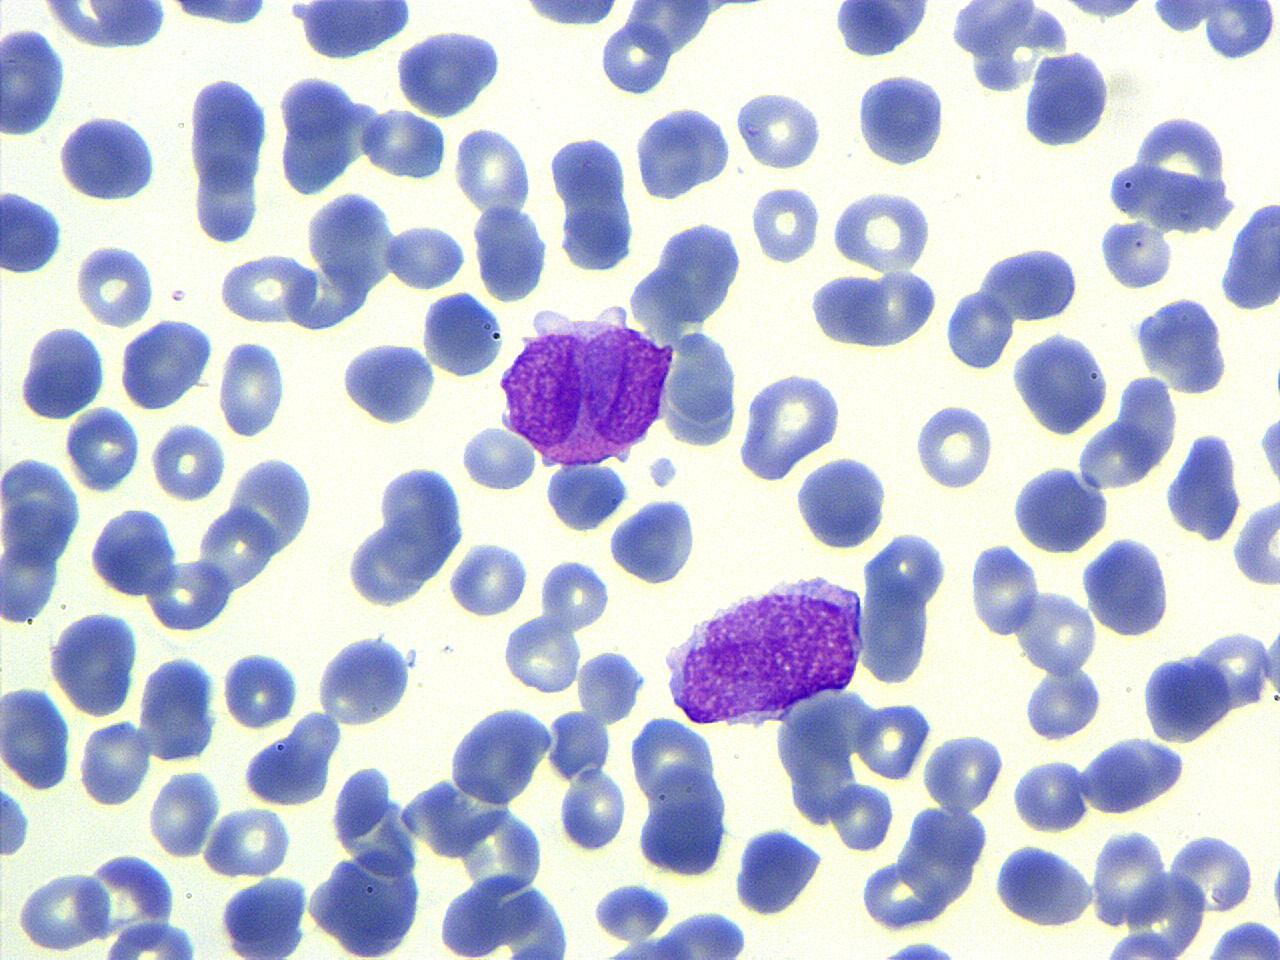Platelets: (73, 239, 156, 328), (590, 880, 672, 942), (0, 781, 30, 862), (1256, 404, 1280, 493), (873, 938, 965, 960), (647, 453, 680, 490), (1268, 854, 1280, 926), (286, 1, 318, 20), (1269, 356, 1280, 408)
RBC: (634, 758, 732, 878), (274, 72, 362, 196), (184, 74, 272, 193), (51, 608, 144, 720), (990, 838, 1098, 930), (136, 651, 219, 766), (827, 187, 936, 274), (227, 452, 315, 558), (12, 324, 107, 422), (86, 504, 181, 602), (1081, 734, 1189, 815), (1090, 826, 1170, 932), (470, 201, 551, 304), (16, 866, 107, 954), (0, 683, 73, 792), (733, 88, 824, 172), (1015, 586, 1101, 674), (451, 123, 533, 215), (920, 729, 1006, 816), (143, 552, 232, 636), (912, 400, 993, 492), (64, 402, 143, 496), (216, 252, 316, 326), (1168, 832, 1256, 915), (216, 336, 286, 439), (966, 540, 1040, 637), (34, 0, 171, 52), (78, 716, 153, 809), (73, 241, 153, 328), (191, 150, 262, 245), (202, 804, 293, 878), (145, 768, 219, 859), (220, 648, 302, 730), (1021, 662, 1105, 742), (360, 104, 447, 181), (503, 612, 582, 696), (544, 459, 632, 534), (446, 540, 529, 618), (856, 698, 932, 783), (148, 420, 226, 502), (942, 287, 1015, 373), (1010, 756, 1089, 835), (600, 16, 674, 98), (558, 766, 626, 854), (750, 183, 822, 265), (383, 222, 468, 290), (540, 555, 612, 635), (1097, 217, 1175, 290), (576, 646, 648, 724), (459, 423, 538, 494), (548, 706, 616, 784), (1229, 490, 1279, 591), (1200, 0, 1276, 63), (830, 779, 895, 852), (96, 920, 206, 960), (1195, 918, 1280, 958)
WBC: (661, 566, 859, 732), (494, 302, 671, 471), (309, 758, 431, 955), (342, 460, 470, 614), (856, 801, 992, 938), (1106, 107, 1242, 243), (570, 1, 732, 102), (858, 520, 953, 688), (545, 130, 638, 276), (633, 214, 750, 329), (433, 868, 576, 960), (734, 368, 846, 484), (0, 463, 77, 628), (945, 1, 1074, 98), (801, 266, 939, 353), (1009, 327, 1113, 438), (446, 702, 554, 808), (276, 72, 367, 195), (633, 765, 732, 876), (48, 604, 144, 718), (185, 73, 271, 200), (658, 326, 742, 454), (394, 24, 506, 120), (1131, 292, 1233, 396), (632, 101, 735, 203), (792, 451, 892, 552), (56, 110, 162, 205), (990, 838, 1094, 934), (1009, 460, 1113, 556), (118, 314, 216, 414), (314, 632, 414, 730), (853, 68, 948, 171), (1080, 533, 1172, 639), (826, 184, 934, 274), (1022, 47, 1114, 152), (1139, 647, 1237, 745), (1162, 429, 1244, 546), (15, 321, 108, 423), (136, 649, 219, 763), (1077, 736, 1191, 818), (730, 824, 828, 919), (87, 505, 181, 602), (339, 339, 439, 429), (244, 712, 341, 804), (0, 19, 73, 140), (608, 492, 700, 587), (977, 242, 1083, 324), (471, 199, 549, 307), (594, 909, 762, 959), (218, 872, 311, 960), (419, 286, 504, 382), (734, 84, 824, 174), (291, 1, 416, 64), (1219, 193, 1280, 314), (543, 457, 630, 535), (1021, 665, 1107, 743), (599, 15, 678, 99), (942, 284, 1016, 373), (830, 1, 934, 60), (1097, 214, 1175, 291), (1, 184, 66, 276), (590, 879, 673, 943), (1231, 490, 1280, 592), (1200, 1, 1276, 62), (154, 0, 282, 31), (1192, 916, 1280, 959), (508, 0, 630, 31), (1257, 402, 1280, 498)
